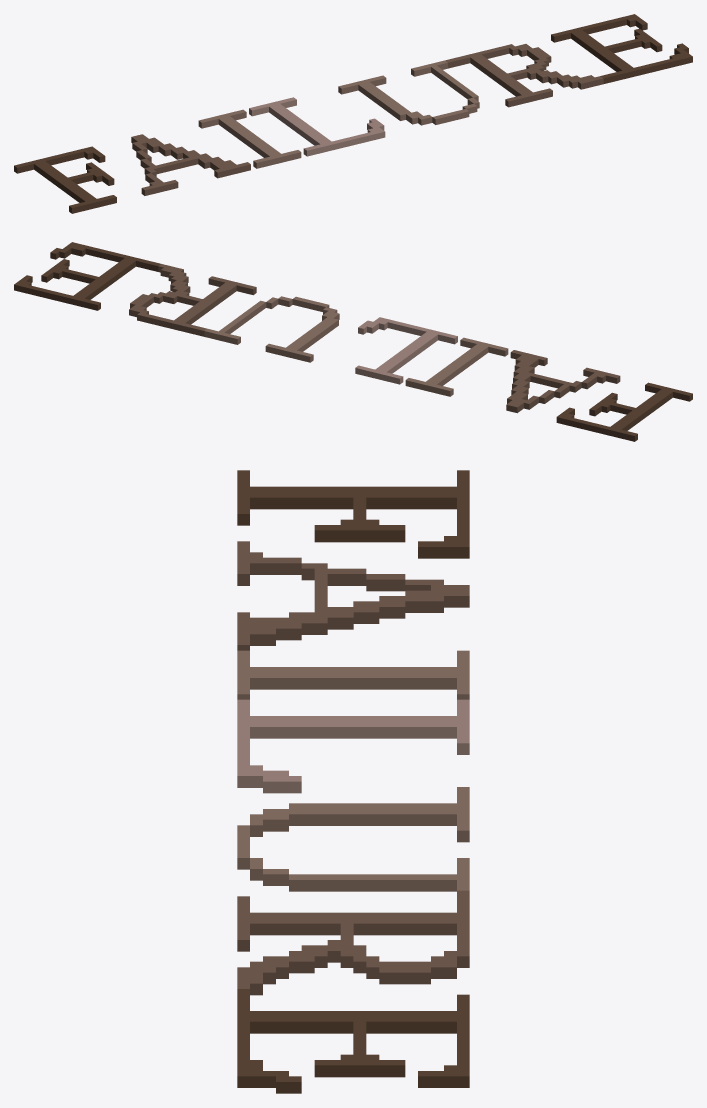
File: failure-0-FAİLURE.obj
3 renders of one model, top to bottom at view 1: azimuth 30°, elevation 25°; view 2: azimuth 150°, elevation 25°; view 3: azimuth 270°, elevation 25°, orthographic. The views are drawn at different scales.
Parts seen in each view (by area): view 1: FAİLURE; view 2: FAİLURE; view 3: FAİLURE.
Part boxes in pixels (<box>): FAİLURE: <box>14,14,692,213</box>; FAİLURE: <box>14,242,692,441</box>; FAİLURE: <box>237,470,469,1093</box>.
Bounding box in the file's own units: 11.2 × 0.1 × 1.8.
1 material, 1 textured.
